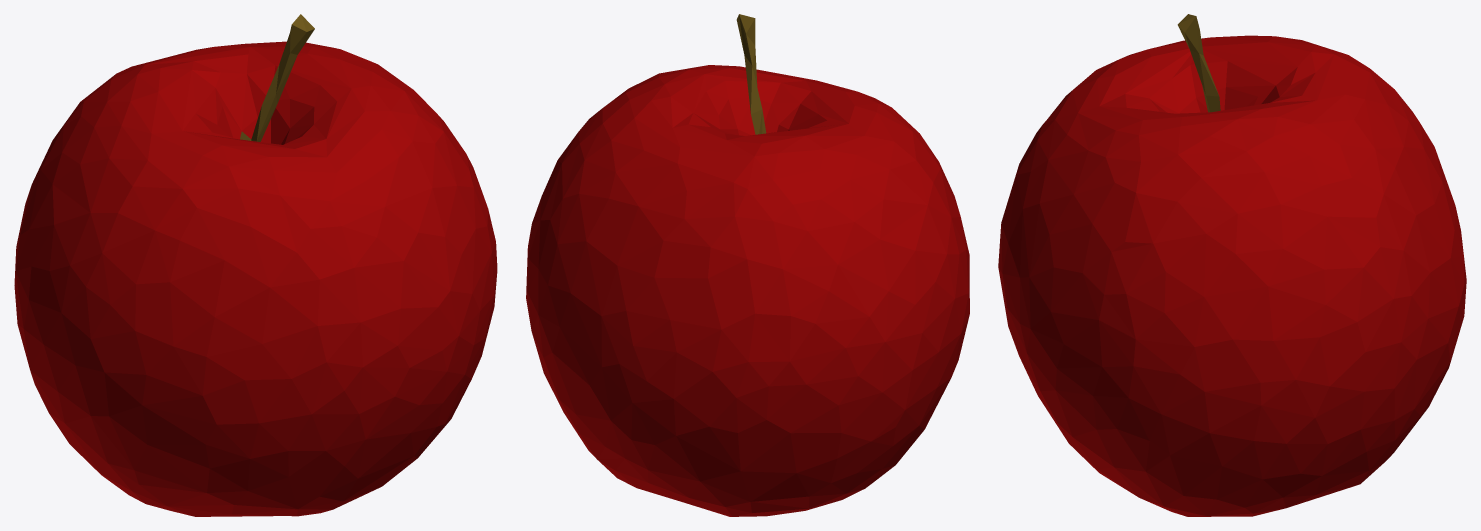
File: Apple.glb
3 renders of one model, left to right at view 1: azimuth 30°, elevation 25°; view 2: azimuth 150°, elevation 25°; view 3: azimuth 270°, elevation 25°, orthographic. The views are drawn at different scales.
Bounding box in the file's own units: 0.3091 × 0.3346 × 0.3026.
